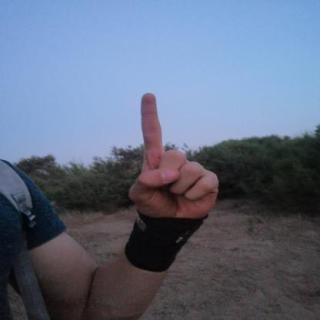BAA: (117, 87, 228, 228)
